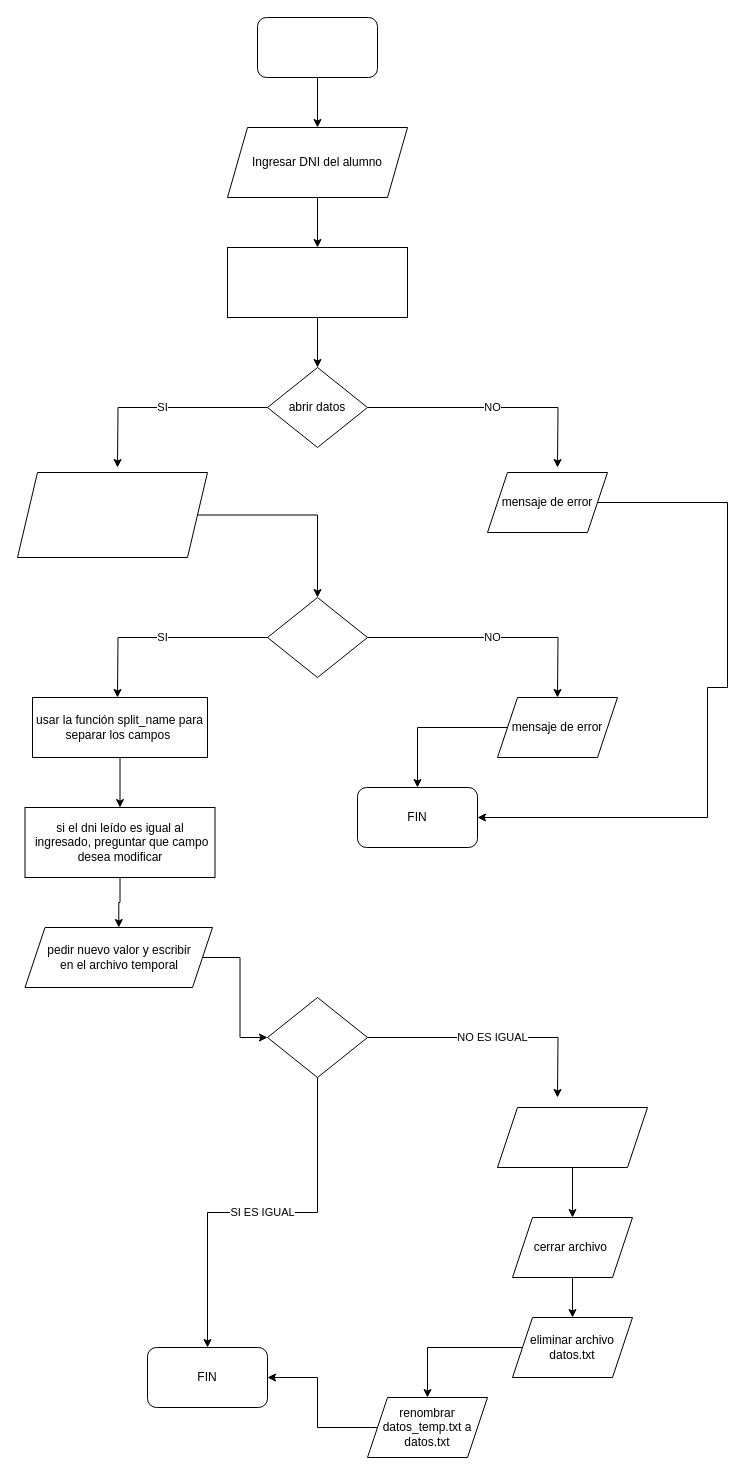
Image size: 753x1475. Some labels were removed from this diagram. Here are the shapes that lost their labels. From the top down, the box of each, then its label:
(256, 16, 378, 78): INICIO
(226, 246, 408, 318): abrir datos.txt en modo lectura
(16, 472, 208, 558): crear un archivo termporal datos_temp.txt y abrirlo en modo lectura
(266, 596, 368, 678): abrir datos/temp
(266, 996, 368, 1078): si el dni de la línea
(496, 1106, 648, 1168): escribir en la línea del archivo temporal
